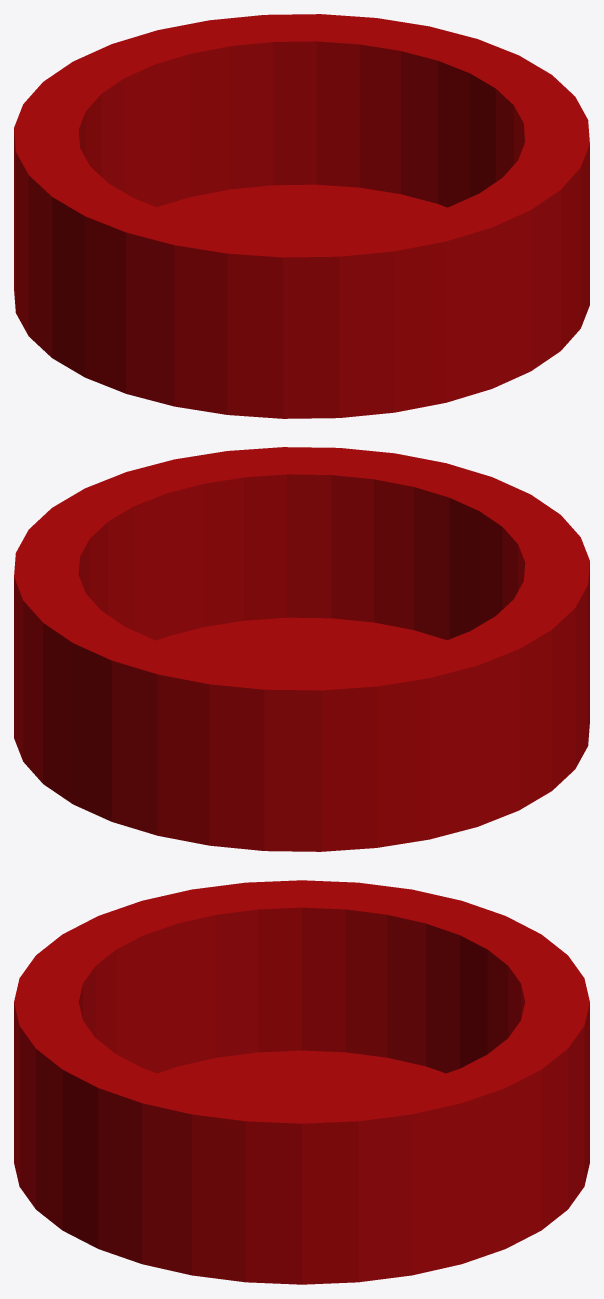
The model's file is foodbowl.fbx.
3 views of the same model, one above another, from view 1: azimuth 30°, elevation 25°; view 2: azimuth 150°, elevation 25°; view 3: azimuth 270°, elevation 25° (orthographic).
Visible parts, largest first — view 1: Cylinder; view 2: Cylinder; view 3: Cylinder.
Boxes of the visible parts, box(x1,y1,x2,y2) form: Cylinder: box(14, 14, 589, 418); Cylinder: box(14, 447, 589, 851); Cylinder: box(14, 880, 589, 1284).
Size of the model in its own units: 147 by 45.39 by 147.
